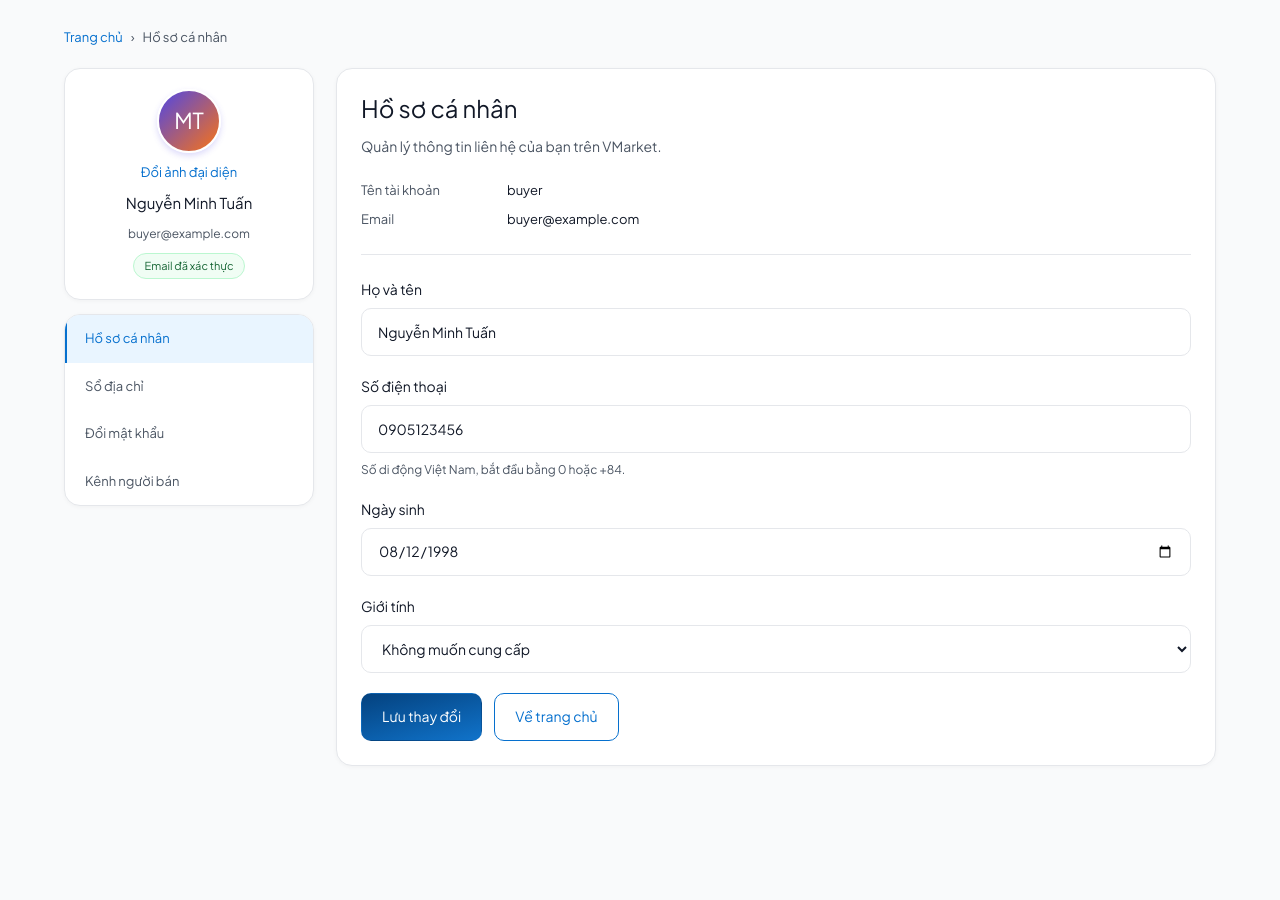
Test: Profile page additions › sends the edited date of birth and gender to the profile API
In the date field labelled "Ngày sinh": (776, 552) [361,528,1191,576], type "2001-02-03"
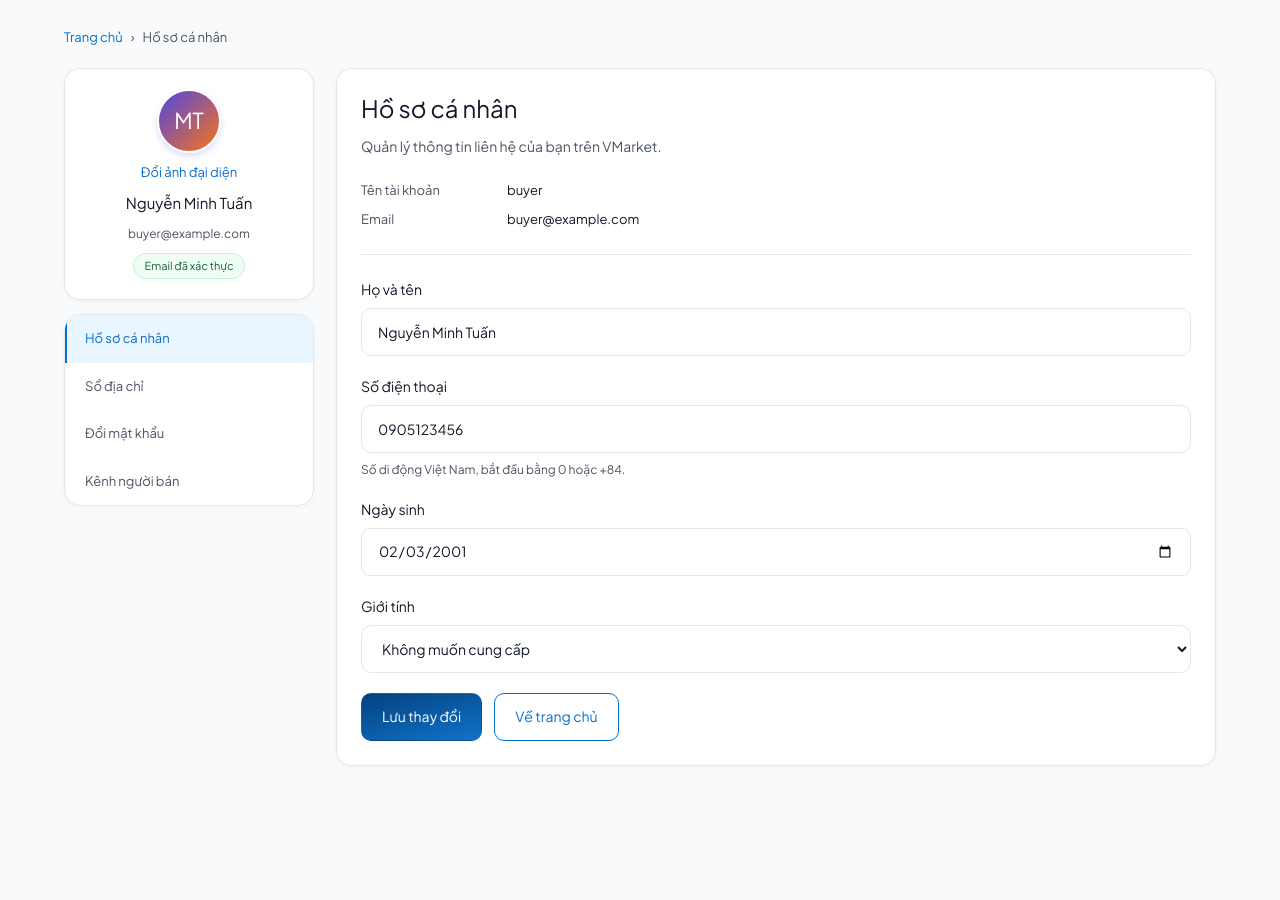
Select "Nữ" in the dropdown labelled "Giới tính": (776, 649) [361,625,1191,673]
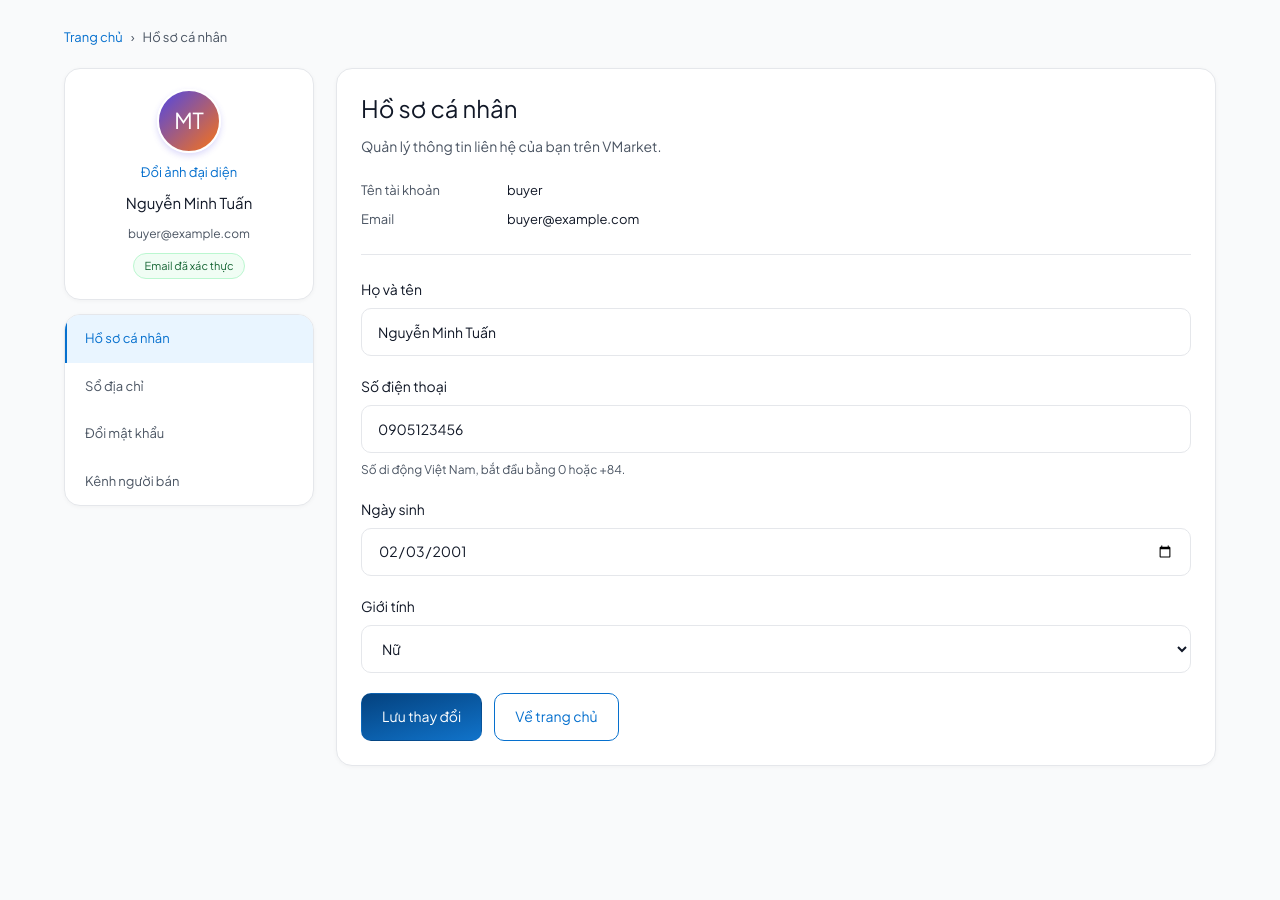
Click the button "Lưu thay đổi": (422, 717) [361,693,482,741]
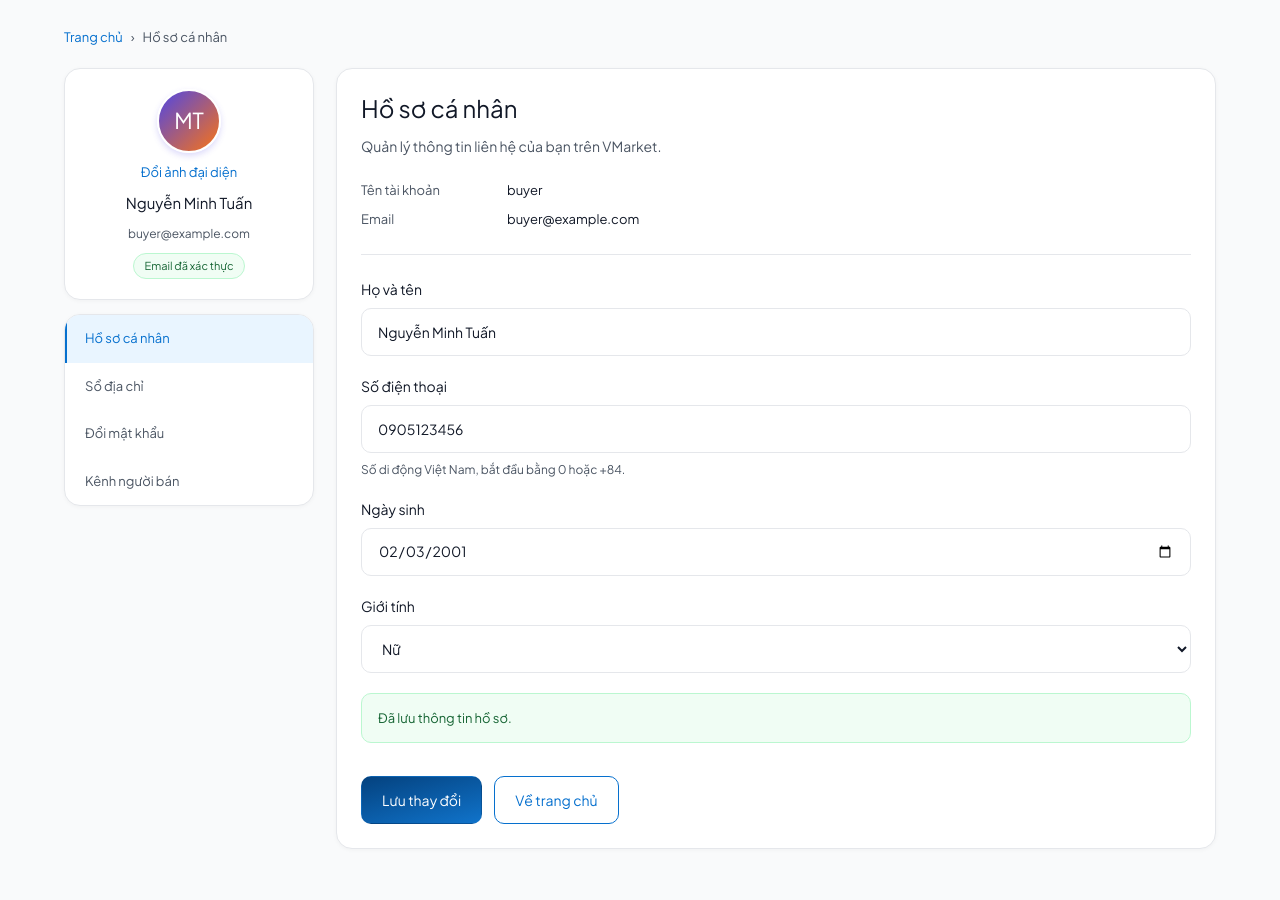
Check: the message "Đã lưu thông tin hồ sơ." is shown, box [361,693,1191,744]
